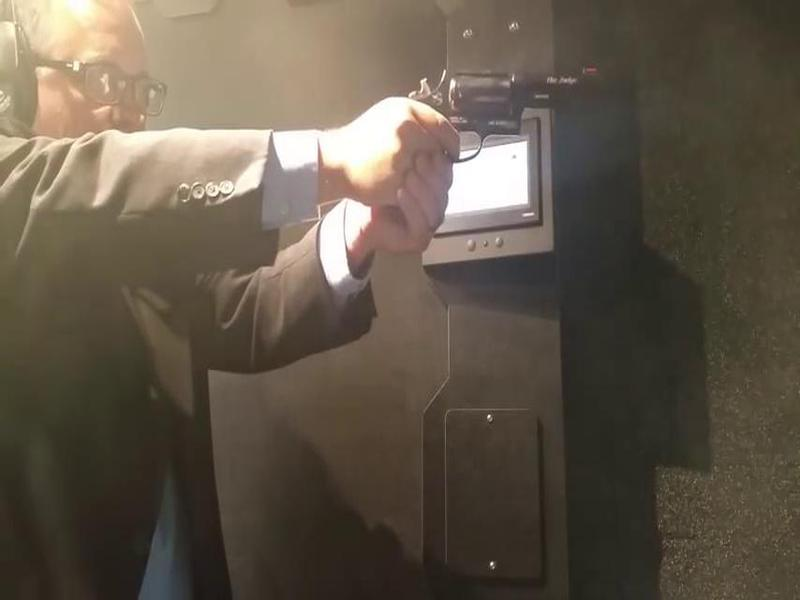Revolver: (383, 31, 618, 186)
